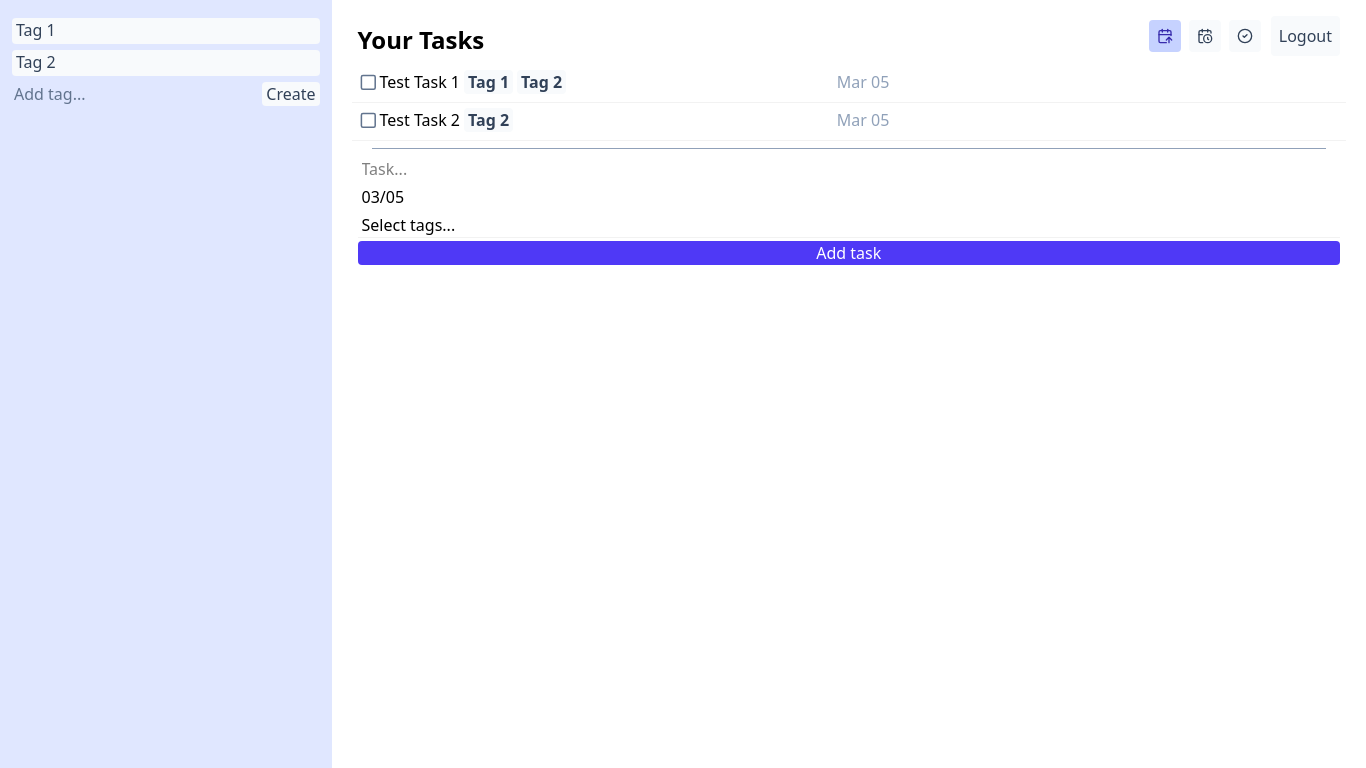
it: Tag integration tests › Filter by tag then de-select that tag
The width and height of the screenshot is (1366, 768).
// click on the first tag to filter by it
Click the 1st text "Tag 1" at (36, 30), box [16,19,56,41]
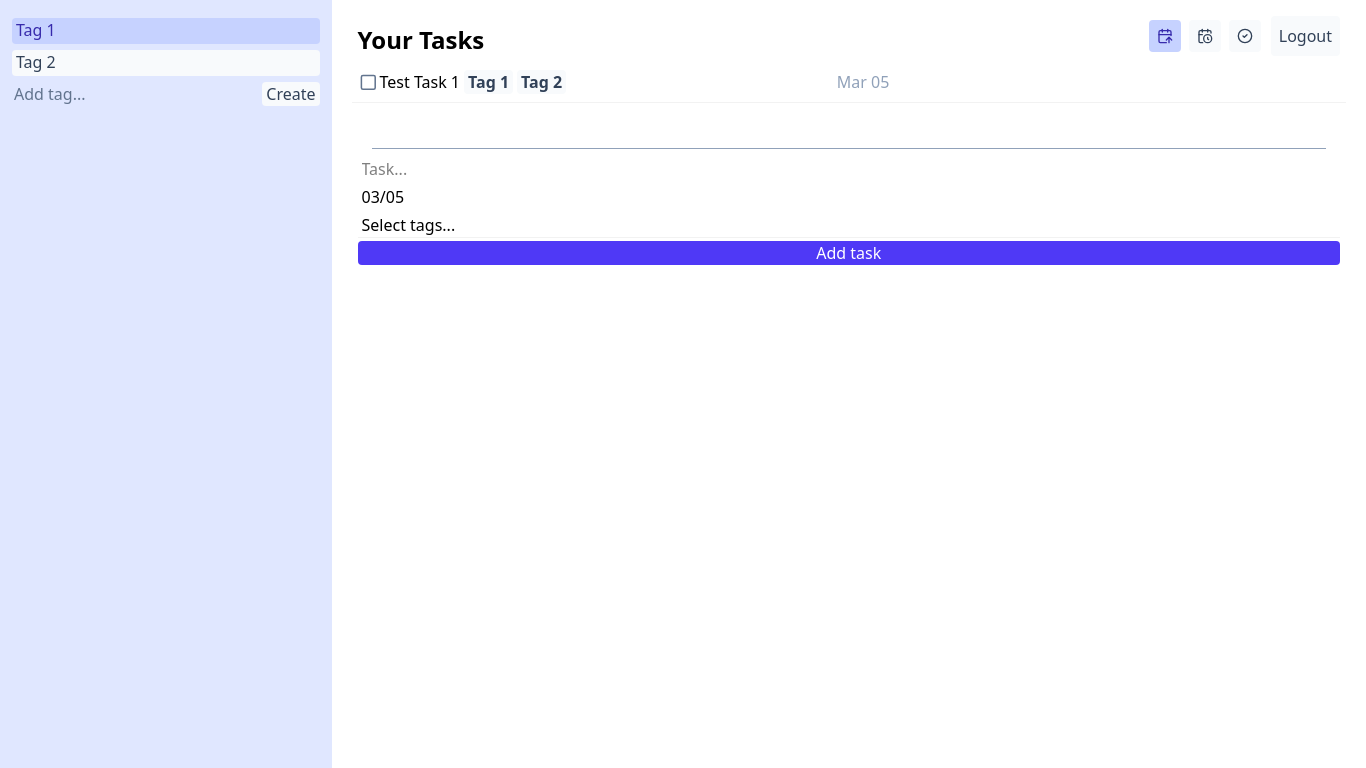
Expected: the text "Test Task 1" is shown, [380,71,460,93]
// clicking the tag again should clear the filter
Click the 1st text "Tag 1" at (36, 30), box [16,19,56,41]
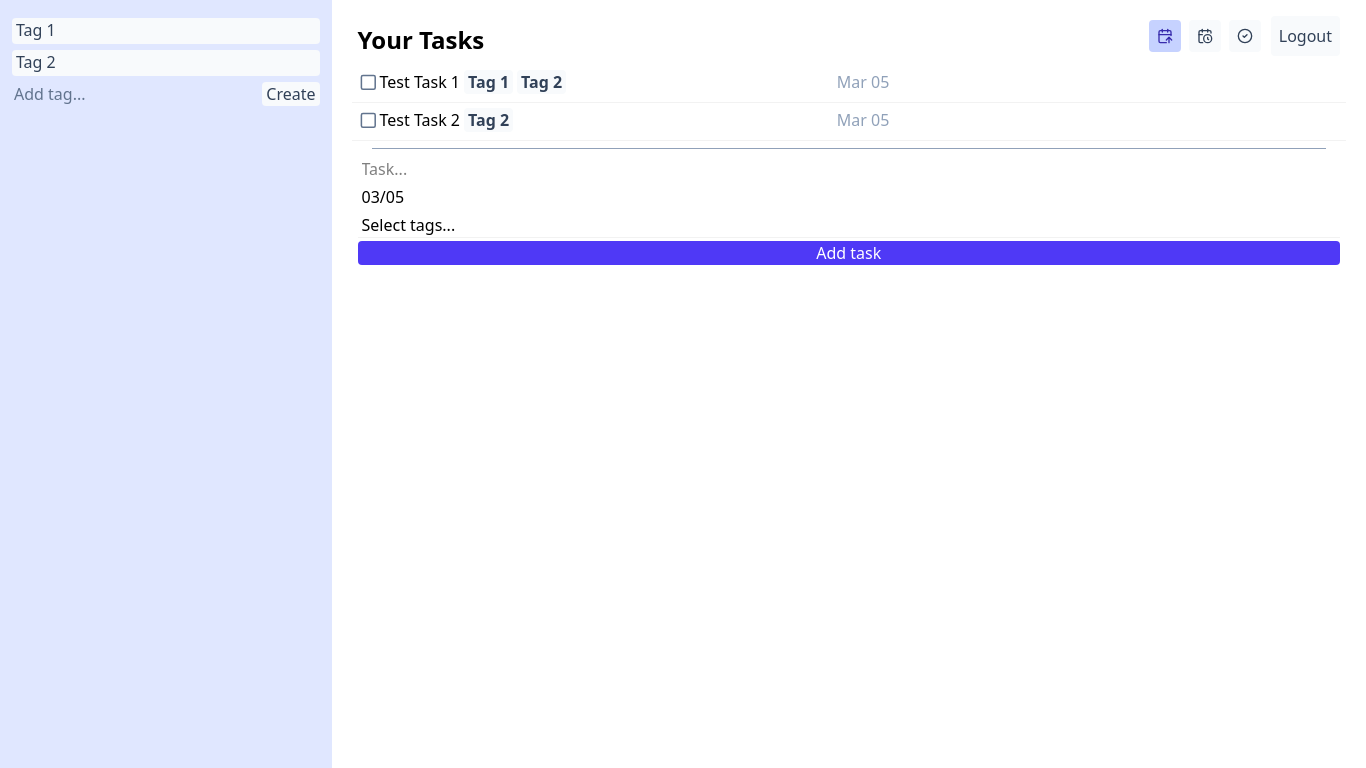
Expected: the text "Test Task 1" is shown, [380,71,460,93]
Expected: the text "Test Task 2" is shown, [380,109,460,131]
